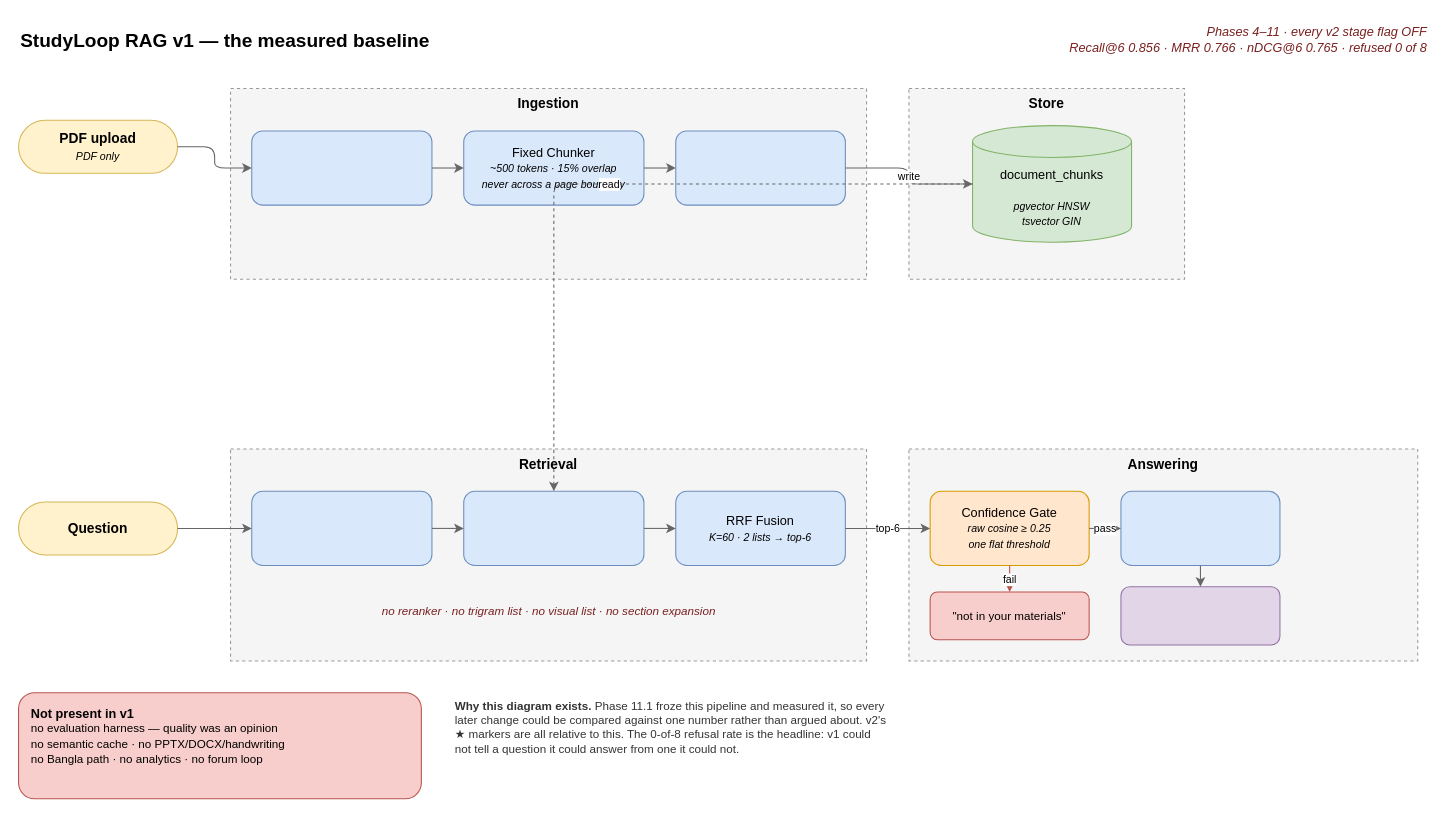
Image size: 1447x817. Some labels were removed from this diagram. The box of each missing label's shape, as (x1, y1, x2, y2) in pixels:
Cohere Chat SSE stream · [n] citations: (1120, 586, 1280, 645)
Hybrid Retrieval vector top-20 · full-text top-20 two lists: (463, 490, 644, 566)
PDFBox Extractor text layer only a scanned page yields nothing: (251, 130, 432, 205)
Prompt Assembly the six chunks, as retrieved: (1120, 490, 1280, 566)
Query Embedder the question, as written no rewriting, no HyDE: (251, 490, 432, 566)
Text Embedder Cohere embed-v4.0 · 768-d text only: (675, 130, 845, 205)
